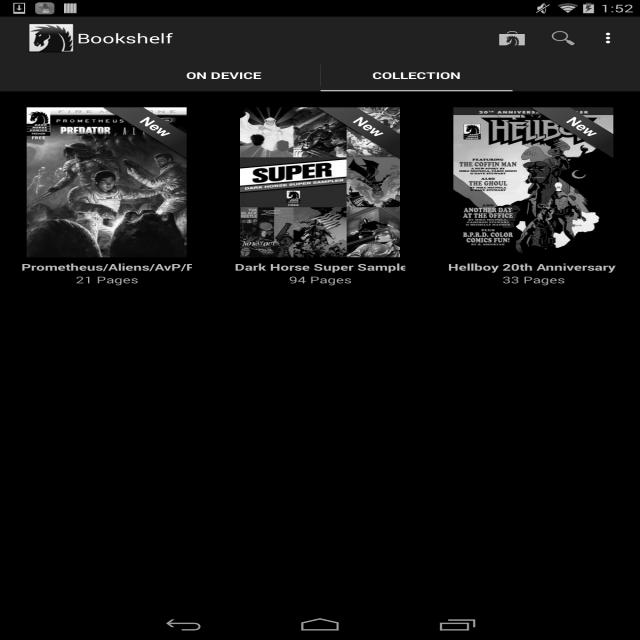ImageView: (240, 108, 400, 258), (454, 108, 614, 258), (27, 108, 186, 258), (53, 108, 187, 160), (267, 108, 400, 160), (480, 108, 613, 160), (26, 22, 76, 54), (589, 22, 631, 54)
TextView: (21, 258, 192, 274), (448, 258, 619, 274), (235, 258, 405, 274), (77, 29, 173, 47), (487, 22, 538, 54), (538, 22, 588, 54), (370, 69, 463, 82), (184, 69, 263, 82), (288, 273, 352, 286), (75, 273, 138, 286), (502, 273, 565, 286)
